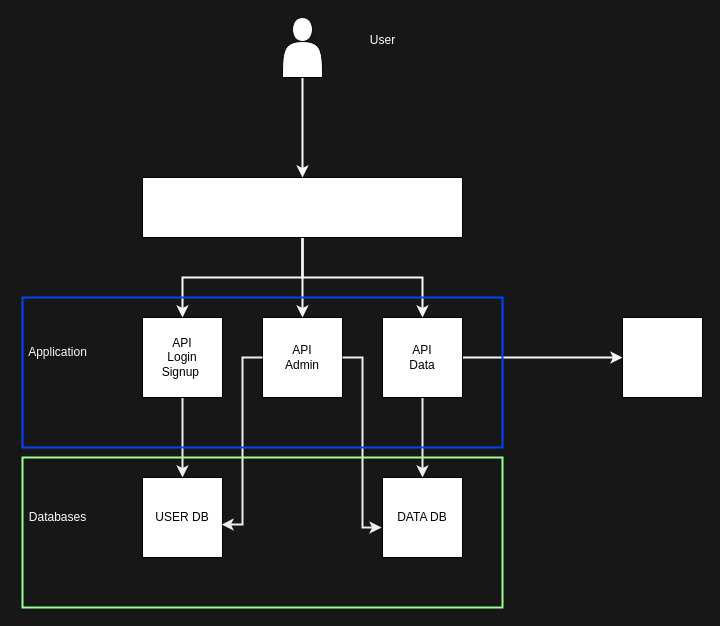
Image size: 720x626. Some labels were removed from this diagram. Here are the shapes that lost their labels. From the top down, the box of each, then its label:
(142, 176, 462, 238): Traefik
(622, 316, 702, 398): API externe
